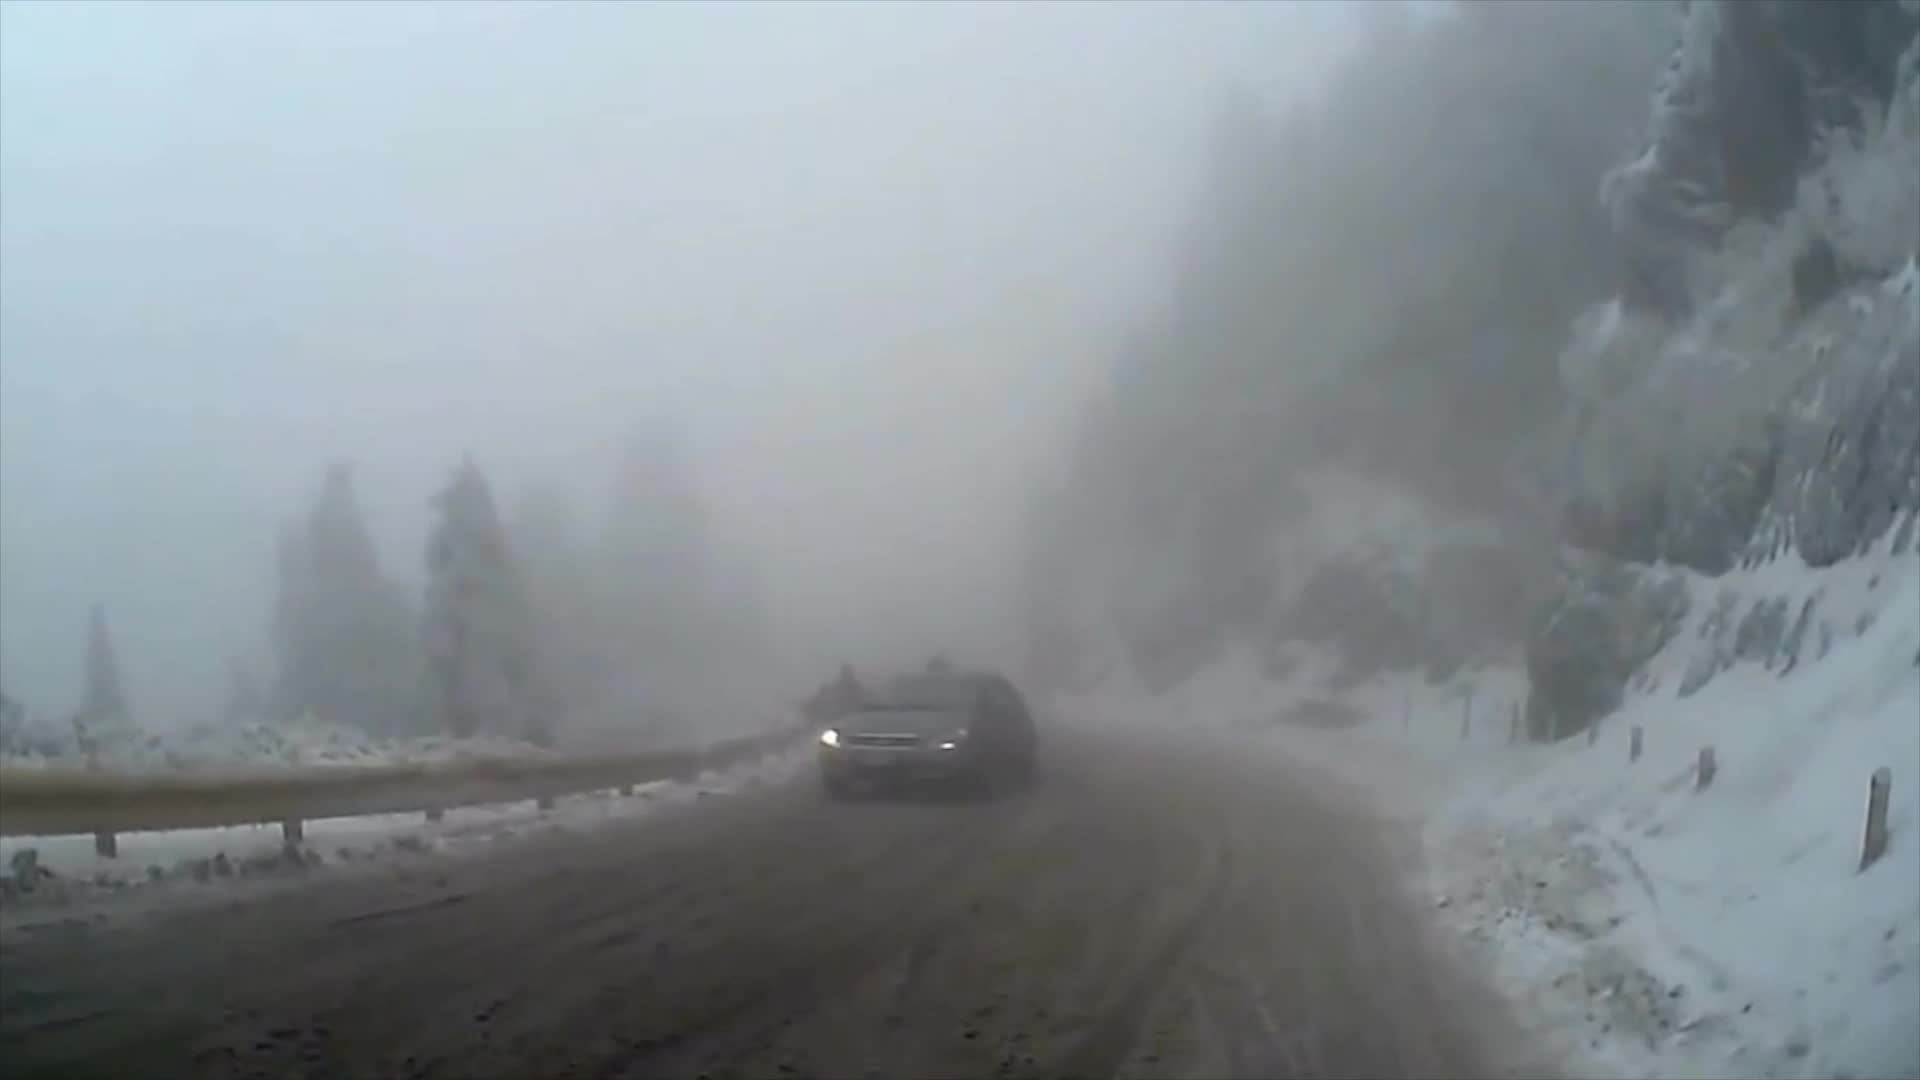vehicle: (822, 670, 1036, 807)
